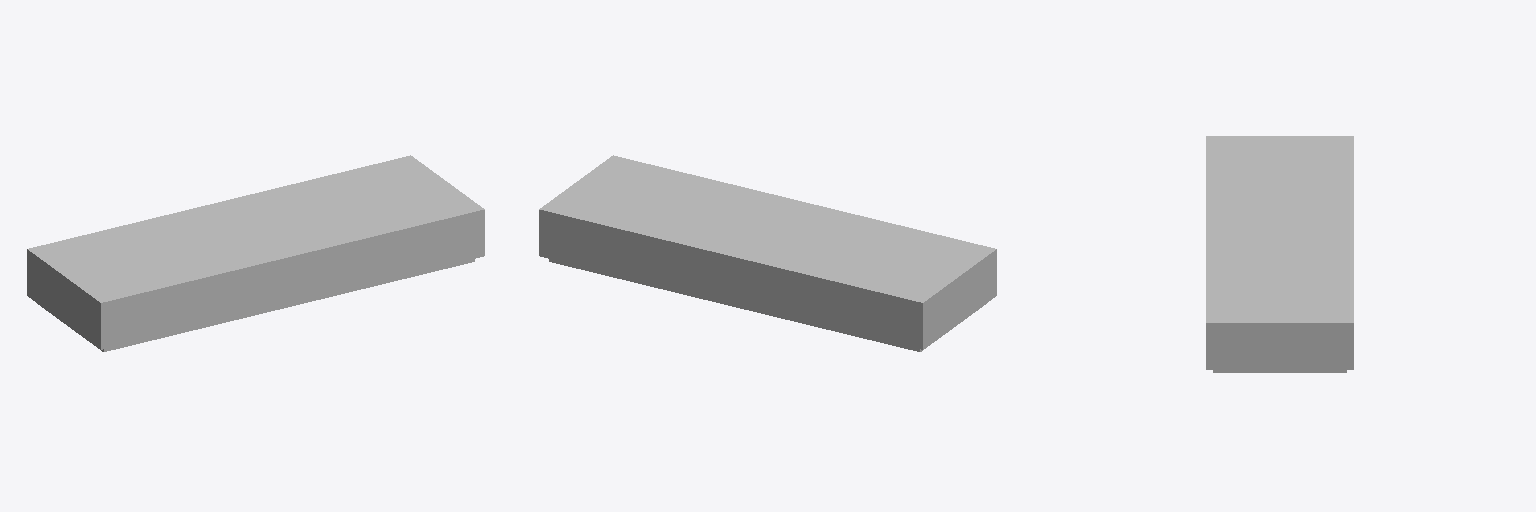
Rendered from Tile_1x3.obj.
3 views of the same model, side by side, from view 1: azimuth 30°, elevation 25°; view 2: azimuth 150°, elevation 25°; view 3: azimuth 270°, elevation 25° (orthographic).
Parts seen in each view (by area): view 1: 63864_1.63864_1n_63864_1, box4_1.box4_1n_box4_1.003, box4_2.box4_2n_box4_2.001; view 2: 63864_1.63864_1n_63864_1, box4_1.box4_1n_box4_1.003, box4_2.box4_2n_box4_2.001; view 3: 63864_1.63864_1n_63864_1, box4_1.box4_1n_box4_1.003.
Part boxes in pixels (bbox=[...]): 63864_1.63864_1n_63864_1: bbox=[28, 155, 484, 302]; box4_1.box4_1n_box4_1.003: bbox=[27, 210, 484, 349]; box4_2.box4_2n_box4_2.001: bbox=[38, 259, 474, 351]; 63864_1.63864_1n_63864_1: bbox=[539, 155, 995, 302]; box4_1.box4_1n_box4_1.003: bbox=[539, 210, 996, 349]; box4_2.box4_2n_box4_2.001: bbox=[549, 259, 985, 351]; 63864_1.63864_1n_63864_1: bbox=[1206, 136, 1353, 322]; box4_1.box4_1n_box4_1.003: bbox=[1206, 323, 1353, 369].
Bounding box in the file's own units: 6 × 0.8 × 2.